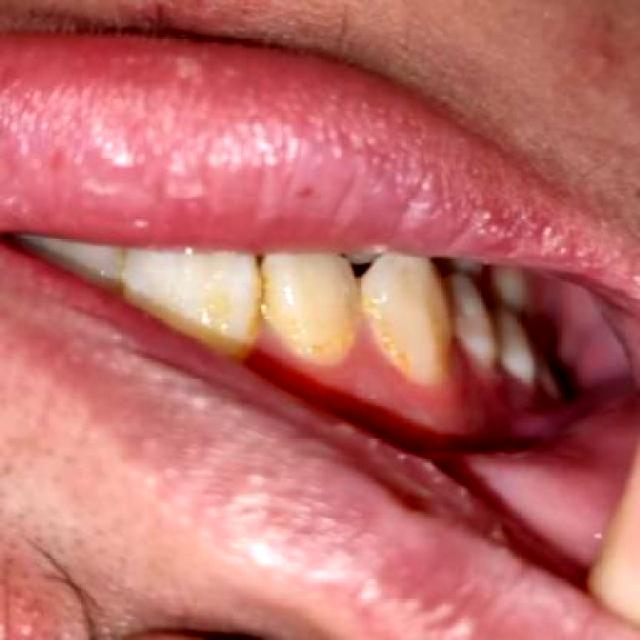Plaque: (231, 316, 495, 405)
